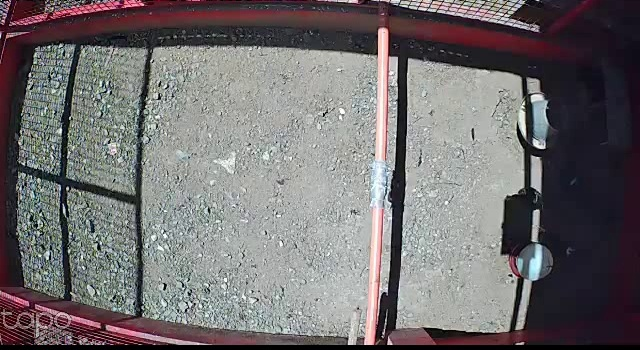Drinker: (509, 241, 554, 282)
Feeder: (517, 90, 574, 154)
